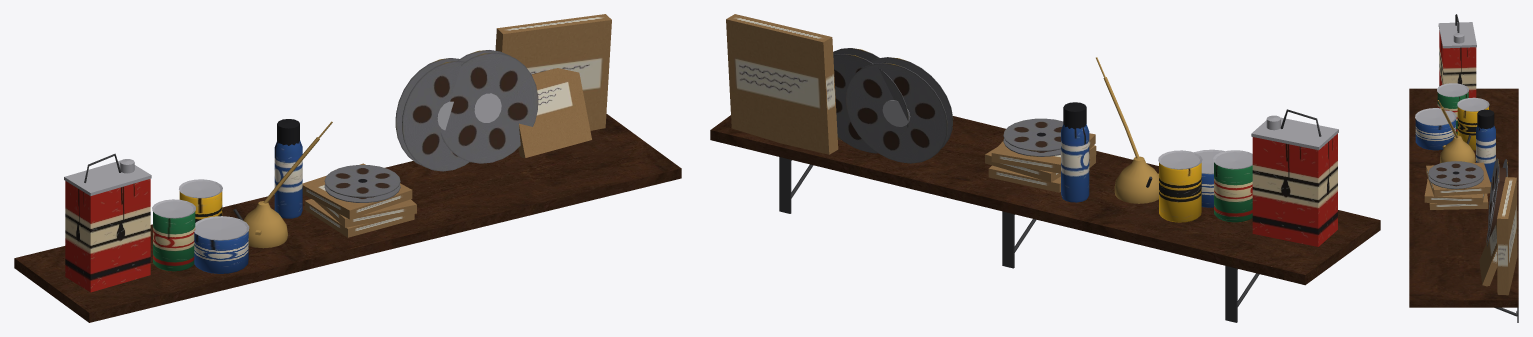
The model's file is oil-shelf.glb.
The picture shows the model from 3 angles, left to right: view 1: azimuth 30°, elevation 25°; view 2: azimuth 150°, elevation 25°; view 3: azimuth 270°, elevation 25°; orthographic projection. The views are drawn at different scales.
Parts seen in each view (by area): view 1: shelf_E06; view 2: shelf_E06; view 3: shelf_E06.
Boxes of the visible parts, bbox=[...] form: shelf_E06: bbox=[14, 14, 681, 322]; shelf_E06: bbox=[710, 14, 1380, 322]; shelf_E06: bbox=[1409, 14, 1518, 322].
Bounding box in the file's own units: 1.6 × 0.4767 × 0.35.
2 materials, 2 textured.
